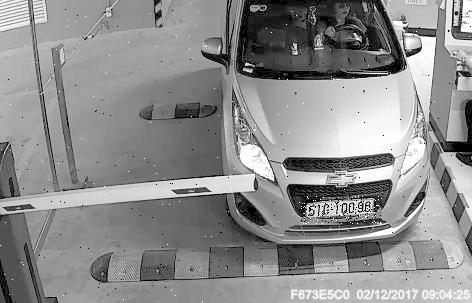License-plate: (303, 198, 384, 226)
